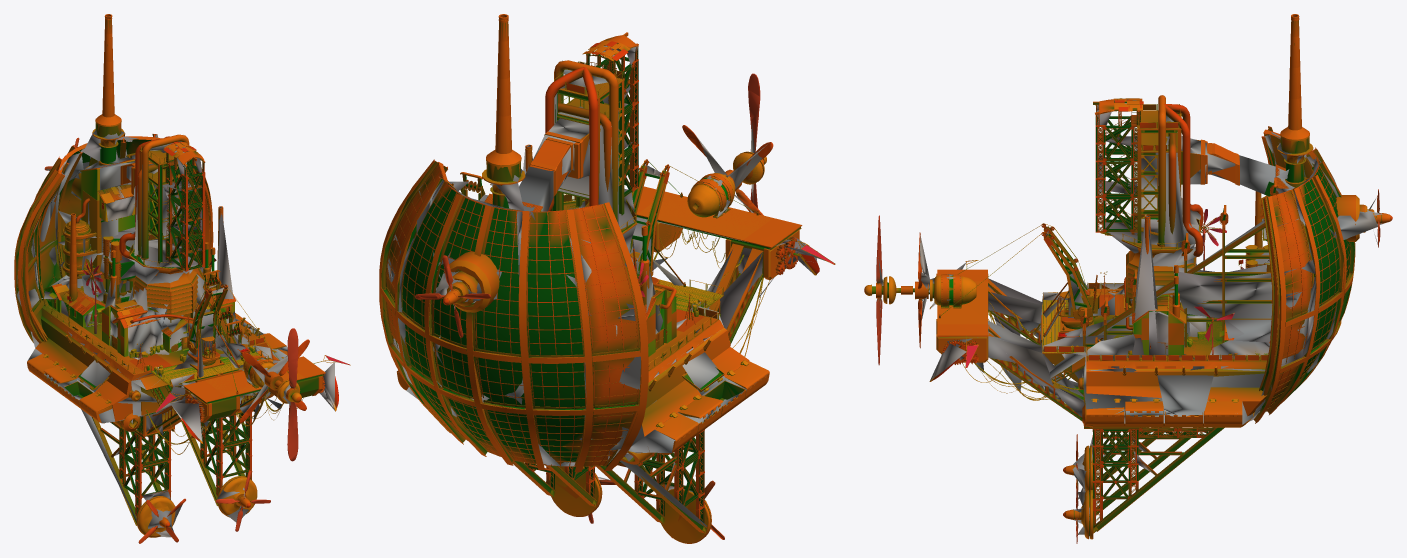
Rendered from KB3D_CSK_BldgLgAirFactory_A.glb.
3 renders of one model, left to right at view 1: azimuth 30°, elevation 25°; view 2: azimuth 150°, elevation 25°; view 3: azimuth 270°, elevation 25°, orthographic. The views are drawn at different scales.
Visible parts, largest first — view 1: L0, L1, L2; view 2: L0, L1, L2; view 3: L0, L2, L1.
Boxes of the visible parts, x1,y1,x2,y2 form: L0: (14, 14, 350, 543); L1: (14, 14, 349, 532); L2: (16, 130, 334, 537); L0: (379, 14, 835, 543); L1: (380, 14, 834, 542); L2: (387, 45, 825, 527); L0: (864, 14, 1392, 543); L2: (878, 99, 1384, 534); L1: (867, 14, 1379, 533).
Bounding box in the file's own units: 38.1 × 79.08 × 74.19.
